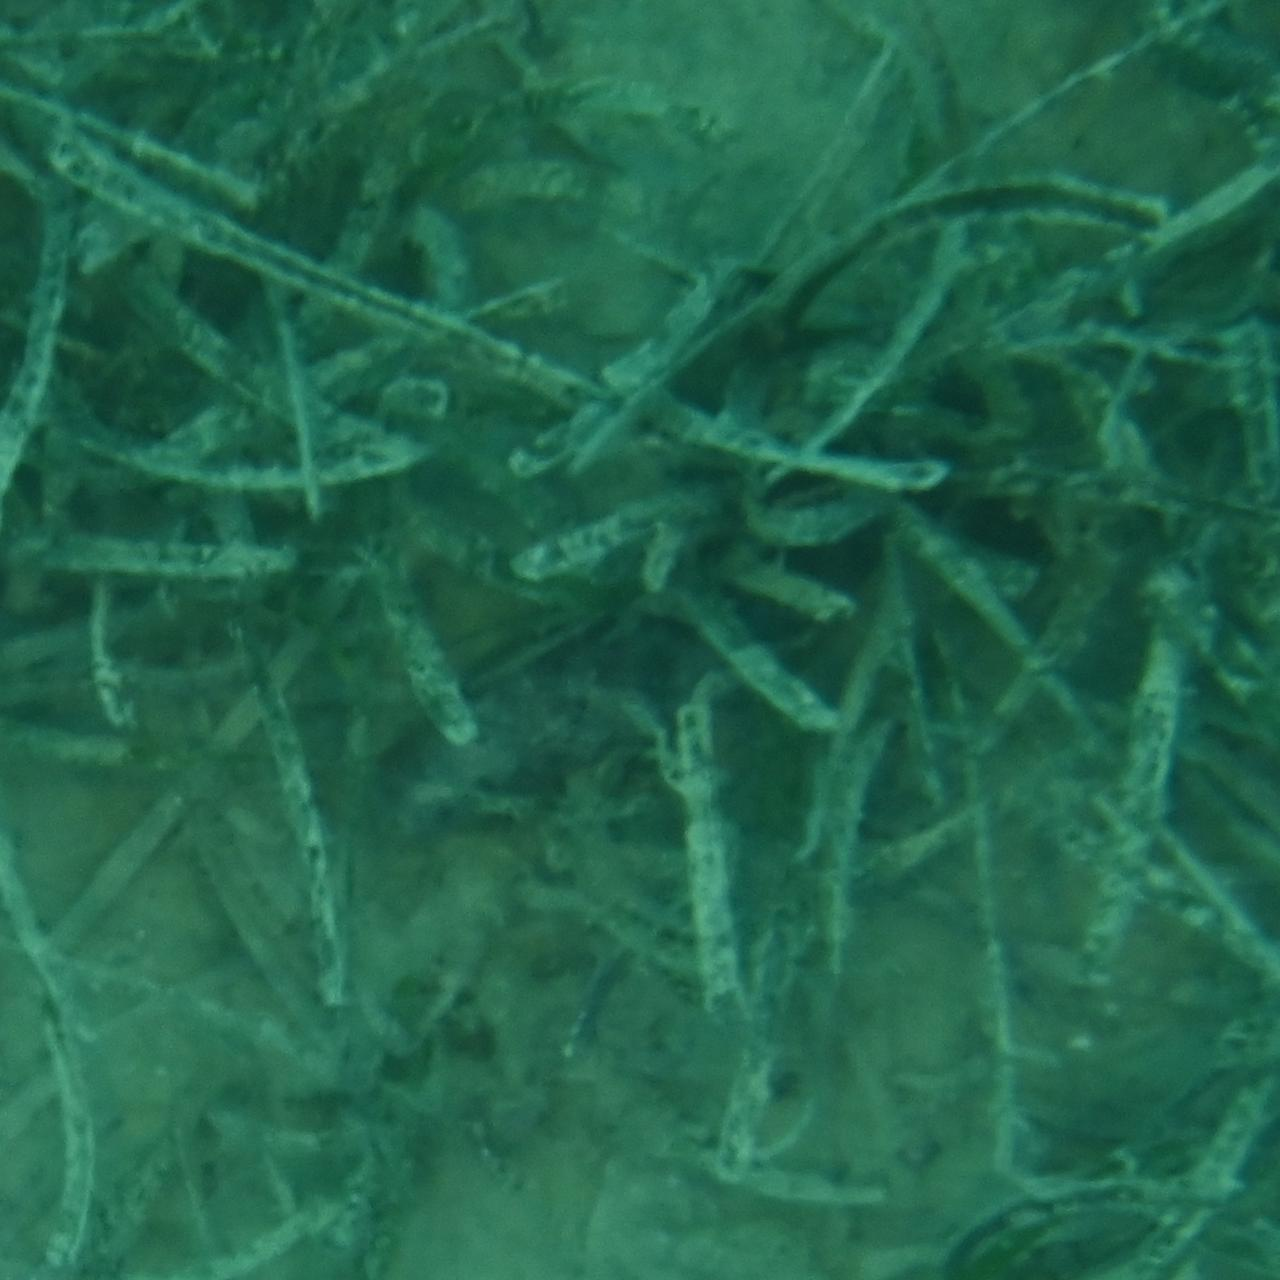Holothuria tubulosa: (376, 439, 904, 841)
